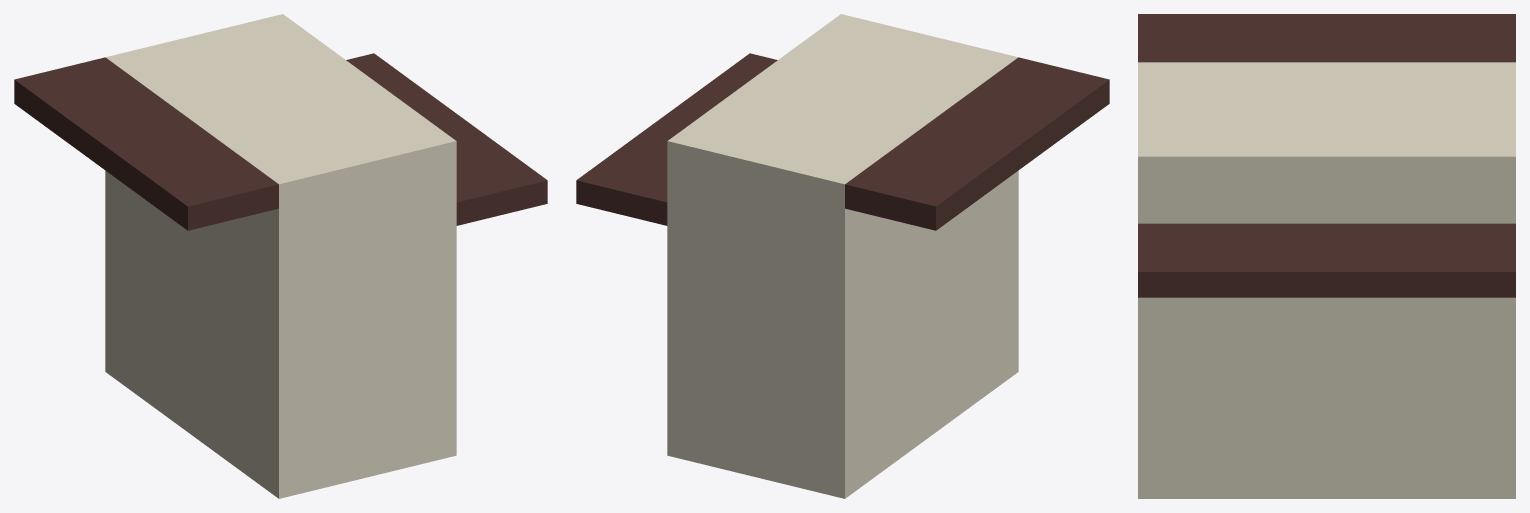
Rendered from cafe_countertop2.glb.
The picture shows the model from 3 angles, left to right: view 1: azimuth 30°, elevation 25°; view 2: azimuth 150°, elevation 25°; view 3: azimuth 270°, elevation 25°; orthographic projection. The views are drawn at different scales.
Parts seen in each view (by area): view 1: countertop; view 2: countertop; view 3: countertop.
Part boxes in pixels (bbox=[...]): countertop: bbox=[14, 14, 547, 498]; countertop: bbox=[576, 14, 1109, 498]; countertop: bbox=[1138, 14, 1515, 498].
Bounding box in the file's own units: 1.2 × 1.01 × 1.01.
